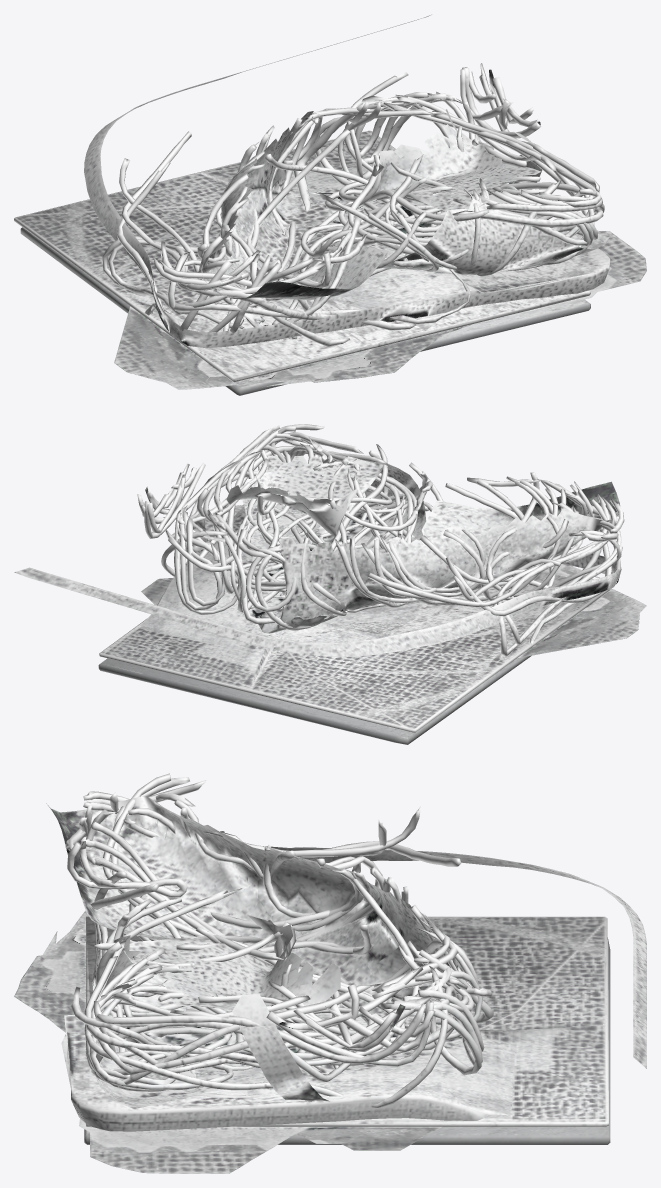
The model's file is concrete_building.glb.
3 renders of one model, top to bottom at view 1: azimuth 30°, elevation 25°; view 2: azimuth 150°, elevation 25°; view 3: azimuth 270°, elevation 25°, orthographic. The views are drawn at different scales.
Bounding box in the file's own units: 2 × 0.5127 × 1.83.
Materials: 1 (1 with a texture image).
